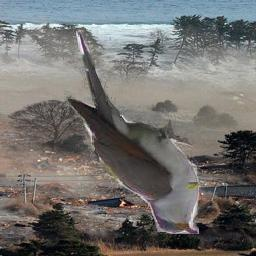Cuckoo: (65, 28, 200, 235)
